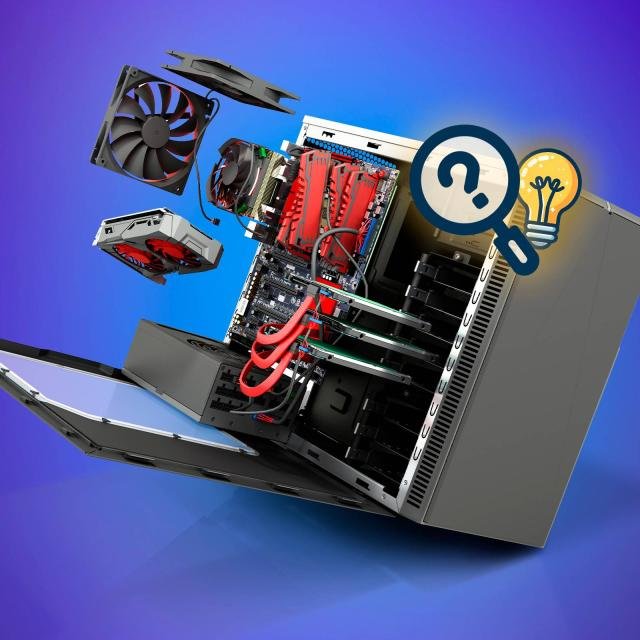electronics: (288, 185, 640, 544), (288, 198, 640, 546), (398, 198, 638, 545), (228, 139, 450, 430), (292, 186, 481, 494), (206, 138, 410, 423), (0, 365, 387, 514), (228, 141, 430, 387), (297, 254, 481, 493), (228, 145, 398, 347), (91, 50, 299, 194), (295, 116, 451, 302), (206, 138, 398, 278), (0, 350, 255, 454), (122, 320, 290, 441), (289, 366, 421, 501), (290, 364, 418, 499), (278, 139, 399, 277), (91, 66, 217, 194), (275, 142, 398, 273), (91, 65, 212, 194), (297, 131, 401, 272), (305, 369, 411, 494), (240, 290, 322, 423), (93, 208, 223, 283), (402, 242, 486, 352), (162, 50, 299, 113), (227, 243, 309, 347), (165, 51, 298, 111), (0, 340, 146, 393), (336, 385, 419, 478), (320, 163, 386, 272), (95, 227, 221, 283), (295, 118, 419, 174), (295, 116, 421, 168), (517, 149, 581, 250), (205, 138, 283, 220), (206, 140, 283, 223), (277, 150, 332, 256), (296, 123, 407, 175), (320, 314, 440, 362), (406, 253, 480, 326), (354, 153, 401, 267), (421, 144, 484, 223), (306, 338, 410, 384), (326, 288, 430, 332), (404, 285, 470, 341), (205, 138, 255, 208), (331, 436, 409, 478), (244, 147, 284, 224), (394, 314, 456, 362), (272, 140, 309, 220), (416, 253, 477, 300), (329, 162, 366, 226), (248, 278, 292, 330), (474, 145, 507, 206), (344, 441, 403, 472), (146, 238, 200, 268), (112, 243, 164, 274), (226, 145, 255, 198), (257, 267, 301, 301), (248, 144, 278, 189), (440, 231, 492, 255), (207, 165, 234, 209), (147, 394, 190, 420), (234, 183, 264, 219), (237, 214, 272, 241), (356, 216, 380, 254), (321, 316, 357, 337), (240, 371, 268, 397), (321, 294, 349, 315), (240, 376, 268, 396), (192, 421, 220, 436), (200, 200, 218, 223), (351, 389, 366, 411), (312, 343, 329, 362), (407, 284, 425, 300), (354, 227, 367, 249), (248, 369, 266, 384), (289, 274, 313, 285), (314, 426, 336, 438), (290, 274, 312, 285), (376, 178, 386, 200), (450, 165, 465, 179), (376, 427, 392, 440), (358, 425, 371, 440), (512, 206, 523, 223), (341, 278, 357, 288), (320, 300, 334, 311), (388, 349, 400, 361), (292, 434, 303, 446), (288, 288, 301, 298), (357, 345, 371, 353), (274, 381, 286, 390), (336, 313, 349, 321), (366, 140, 380, 147), (366, 202, 375, 212), (252, 230, 263, 238), (369, 278, 376, 290), (235, 309, 241, 323), (481, 165, 490, 174), (374, 286, 381, 297), (220, 149, 227, 160), (431, 235, 438, 244), (347, 339, 354, 348), (249, 164, 253, 178), (401, 332, 410, 338), (292, 276, 302, 281), (347, 341, 354, 348), (292, 297, 300, 303), (414, 347, 423, 352), (218, 173, 223, 182), (334, 292, 343, 297), (156, 278, 165, 283), (247, 286, 252, 295), (238, 185, 244, 192), (290, 277, 300, 281), (372, 255, 377, 263), (338, 331, 344, 337), (300, 378, 306, 384), (305, 280, 312, 285), (419, 321, 426, 326), (112, 399, 117, 406), (198, 173, 200, 189), (255, 164, 258, 174), (245, 210, 251, 215), (407, 388, 412, 394), (344, 224, 359, 226), (289, 403, 293, 410), (364, 202, 368, 209), (489, 230, 492, 239), (368, 218, 374, 222), (426, 357, 432, 361), (482, 274, 486, 280), (252, 206, 255, 214), (397, 196, 401, 202), (280, 316, 286, 320), (466, 255, 470, 260), (425, 240, 429, 245), (403, 441, 407, 446), (268, 255, 272, 260), (344, 341, 348, 346), (351, 329, 354, 335), (389, 336, 392, 341), (233, 140, 238, 143), (327, 320, 330, 325), (336, 217, 339, 222), (198, 174, 199, 188), (255, 176, 258, 180), (441, 354, 445, 357), (449, 248, 451, 254), (323, 359, 327, 362), (386, 254, 388, 260), (106, 220, 112, 222), (519, 237, 521, 243), (209, 218, 213, 221), (238, 170, 241, 174), (481, 167, 484, 171), (393, 479, 397, 482), (346, 424, 349, 428), (423, 284, 429, 286), (407, 392, 410, 396), (151, 276, 156, 278), (192, 234, 197, 236), (386, 256, 391, 258), (244, 176, 246, 181), (390, 499, 392, 504), (0, 357, 2, 362), (369, 341, 372, 344), (344, 337, 347, 340), (205, 214, 208, 217), (228, 140, 231, 143), (96, 404, 99, 407), (419, 358, 423, 360), (238, 206, 240, 210), (383, 238, 385, 242), (419, 322, 423, 324), (102, 223, 104, 227), (356, 244, 358, 248), (336, 401, 340, 403), (406, 341, 409, 343), (372, 342, 375, 344), (364, 218, 367, 220), (244, 205, 246, 208), (238, 203, 240, 206), (154, 221, 157, 223), (528, 265, 530, 268), (215, 220, 217, 223), (247, 212, 250, 214), (269, 377, 271, 380), (111, 369, 113, 372), (423, 361, 426, 363), (433, 356, 438, 357), (215, 107, 216, 112), (263, 322, 268, 323), (403, 304, 408, 305), (292, 382, 294, 384), (222, 164, 224, 166), (344, 337, 346, 339), (360, 290, 361, 294), (305, 129, 307, 131), (258, 186, 260, 188), (404, 176, 406, 178), (381, 432, 383, 434), (290, 404, 292, 406), (398, 304, 400, 306), (246, 173, 248, 175), (273, 260, 275, 262), (72, 381, 74, 383), (292, 386, 293, 389), (444, 383, 445, 386), (330, 338, 331, 341), (305, 125, 308, 126), (169, 233, 170, 236), (136, 229, 139, 230), (127, 229, 130, 230), (404, 280, 407, 281), (516, 240, 517, 243), (214, 113, 215, 116), (347, 431, 350, 432), (295, 300, 296, 303), (238, 217, 239, 220), (387, 263, 388, 265), (374, 218, 375, 220), (464, 194, 466, 195), (541, 266, 542, 268), (253, 178, 254, 180), (198, 232, 200, 233), (165, 224, 166, 226), (404, 249, 406, 250), (590, 196, 592, 197), (417, 407, 419, 408), (234, 184, 235, 186), (222, 162, 224, 163), (338, 282, 340, 283), (374, 384, 375, 386), (394, 437, 395, 439), (278, 295, 279, 297), (316, 380, 318, 381), (84, 405, 86, 406), (378, 345, 379, 346), (314, 351, 315, 352), (338, 329, 339, 330), (462, 236, 463, 237), (418, 214, 419, 215), (235, 158, 236, 159), (294, 427, 295, 428), (379, 334, 382, 334), (223, 155, 223, 160), (370, 173, 370, 174), (347, 268, 348, 268), (312, 119, 312, 119), (387, 490, 388, 490), (210, 238, 210, 240), (137, 222, 137, 223), (396, 352, 396, 352), (272, 220, 272, 222), (384, 498, 385, 498), (360, 176, 361, 176), (203, 210, 203, 213), (236, 162, 236, 164), (363, 263, 364, 263), (430, 336, 430, 337), (356, 270, 356, 271), (132, 454, 134, 454), (215, 436, 217, 436), (332, 406, 332, 407)
